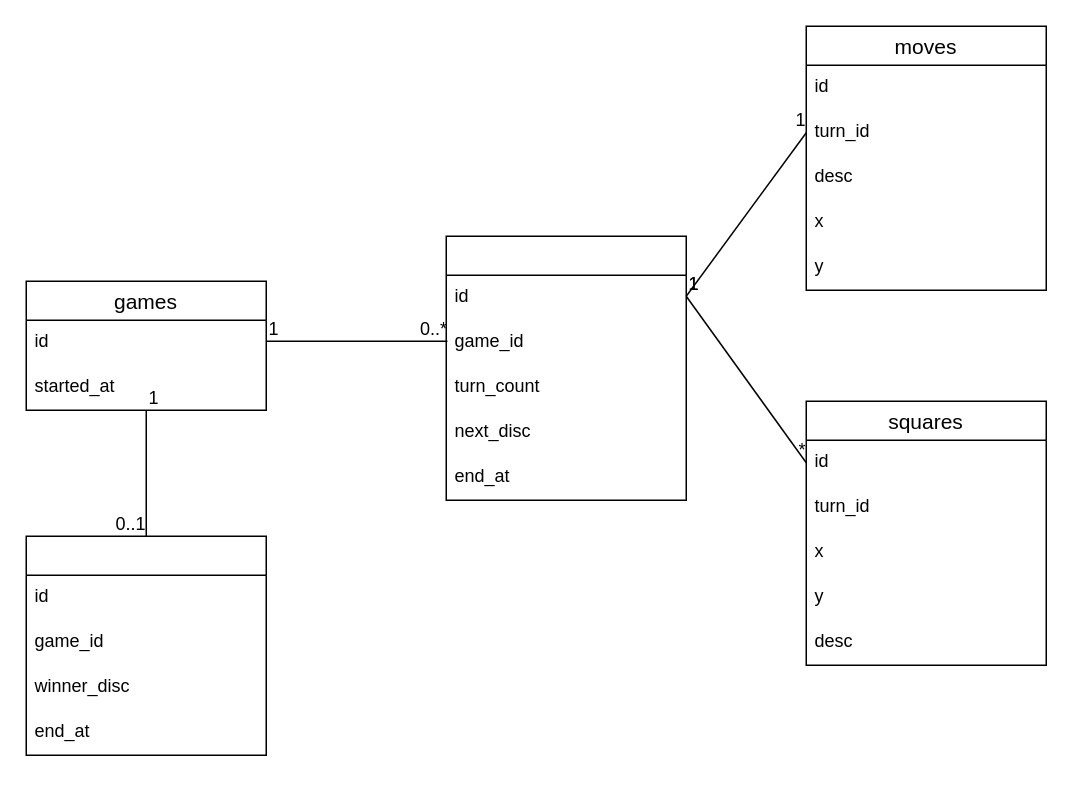
Image size: 1073x786. Some labels were removed from this diagram. Here are the shapes that lost their labels. From the top down, the box of each, then its label:
(445, 235, 686, 500): turns
(25, 535, 266, 755): game_results
